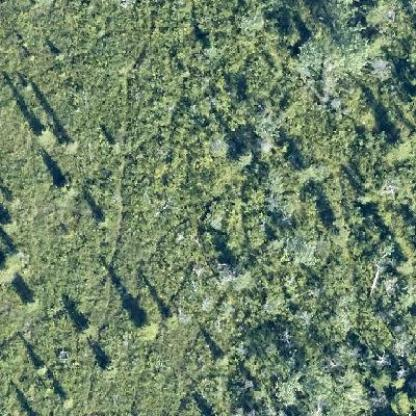tree-top: (318, 214, 357, 250), (133, 315, 160, 343), (290, 157, 315, 185), (56, 172, 82, 198), (72, 316, 100, 340), (33, 122, 57, 146), (96, 356, 120, 380), (19, 290, 38, 311)
